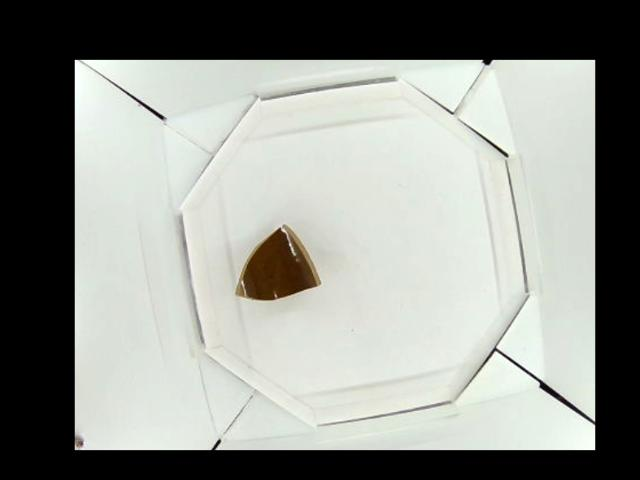China: (235, 224, 321, 302)
